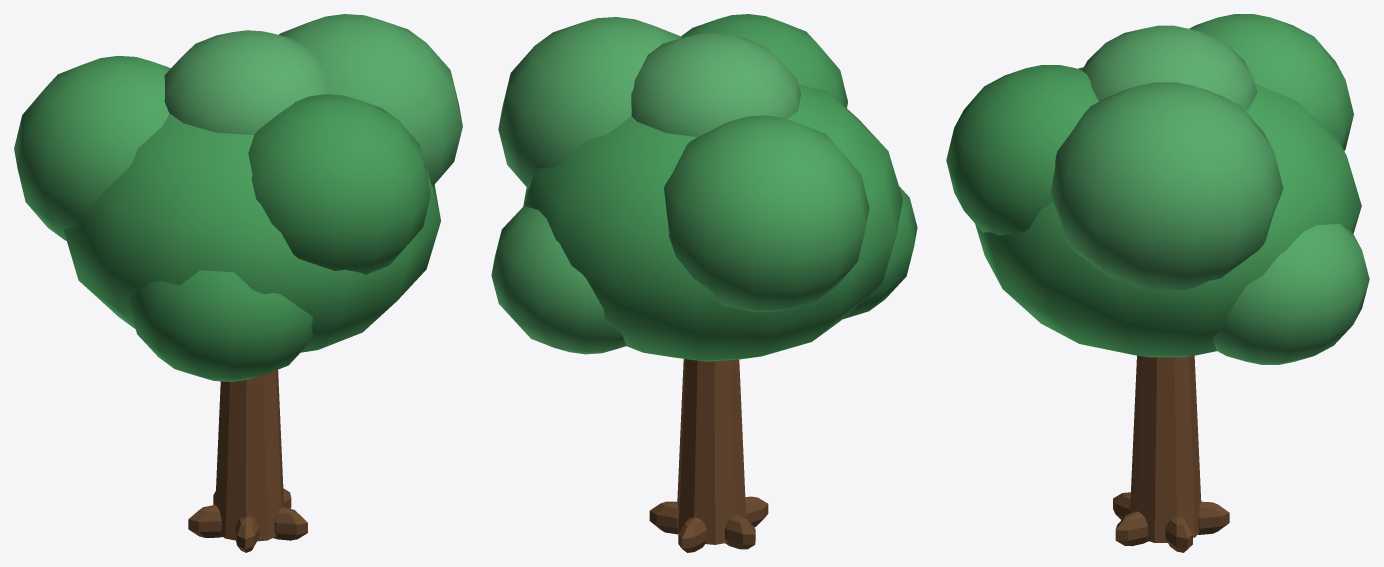
The model's file is Planta_StarFruit.fbx.
3 renders of one model, left to right at view 1: azimuth 30°, elevation 25°; view 2: azimuth 150°, elevation 25°; view 3: azimuth 270°, elevation 25°, orthographic.
Parts seen in each view (by area): view 1: Corpo_StarFruit; view 2: Corpo_StarFruit; view 3: Corpo_StarFruit.
Boxes of the visible parts, x1,y1,x2,y2 form: Corpo_StarFruit: (14,14,462,552); Corpo_StarFruit: (491,14,917,552); Corpo_StarFruit: (946,14,1369,552).
Bounding box in the file's own units: 5.49 × 6.86 × 5.26.
1 material, 1 textured.
